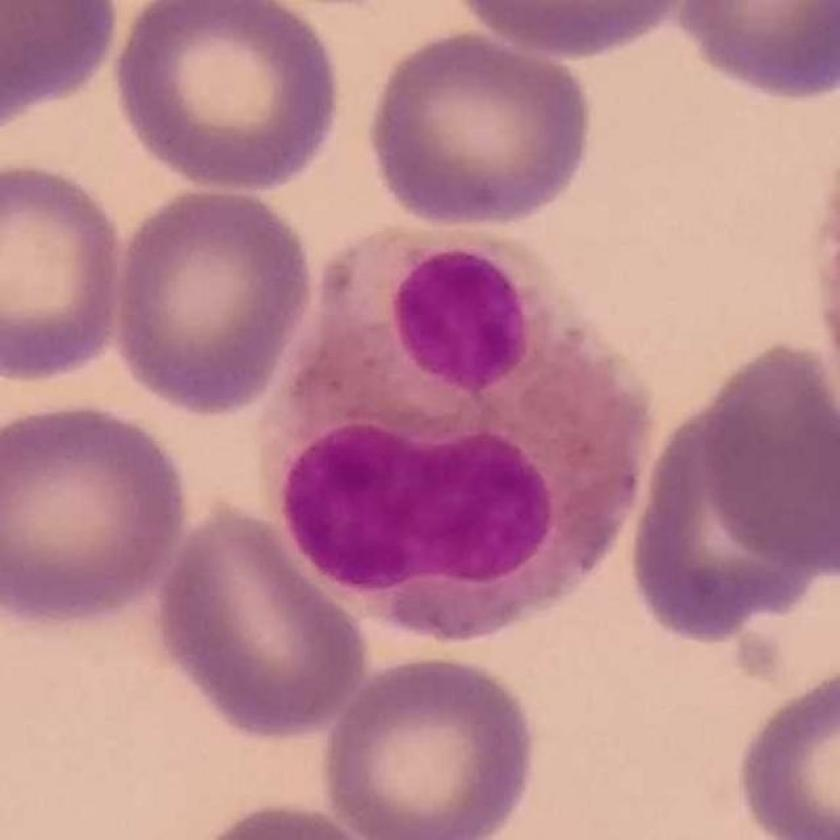eosinophil: (256, 220, 657, 647)
